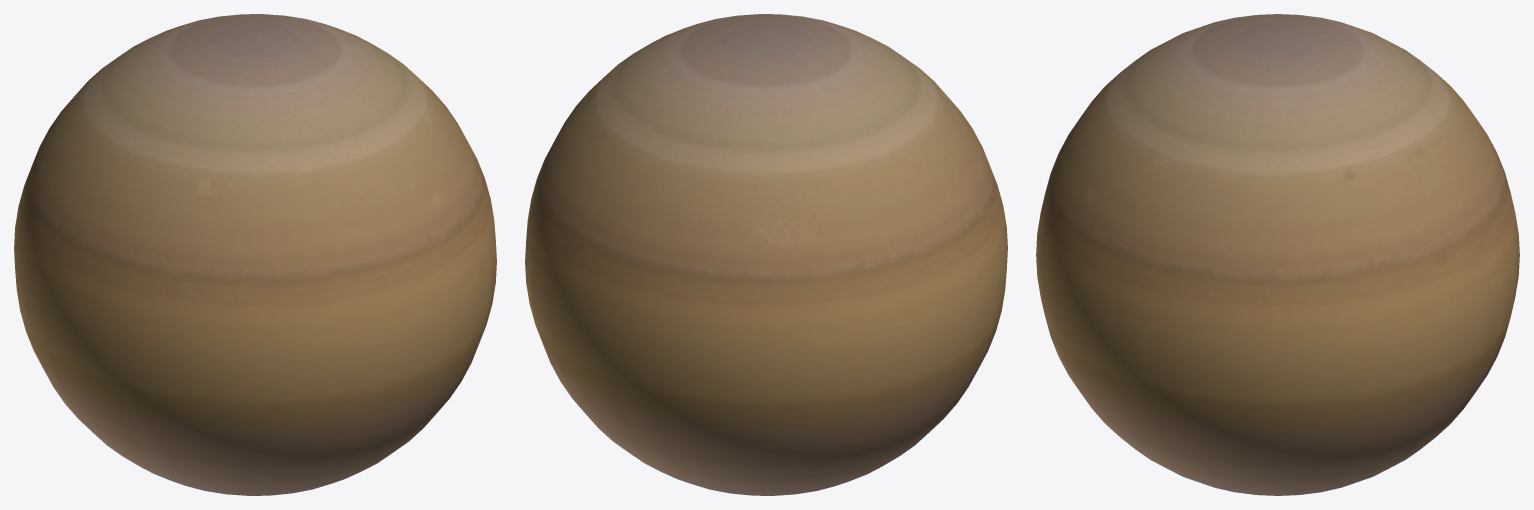
The model's file is saturn.obj.
3 renders of one model, left to right at view 1: azimuth 30°, elevation 25°; view 2: azimuth 150°, elevation 25°; view 3: azimuth 270°, elevation 25°, orthographic.
Parts seen in each view (by area): view 1: Saturn.001_Sphere.001; view 2: Saturn.001_Sphere.001; view 3: Saturn.001_Sphere.001.
Boxes of the visible parts, x1,y1,x2,y2 form: Saturn.001_Sphere.001: (14,14,496,495); Saturn.001_Sphere.001: (525,14,1007,495); Saturn.001_Sphere.001: (1036,14,1519,495).
Size of the model in its own units: 6.05 by 6.03 by 6.05.
